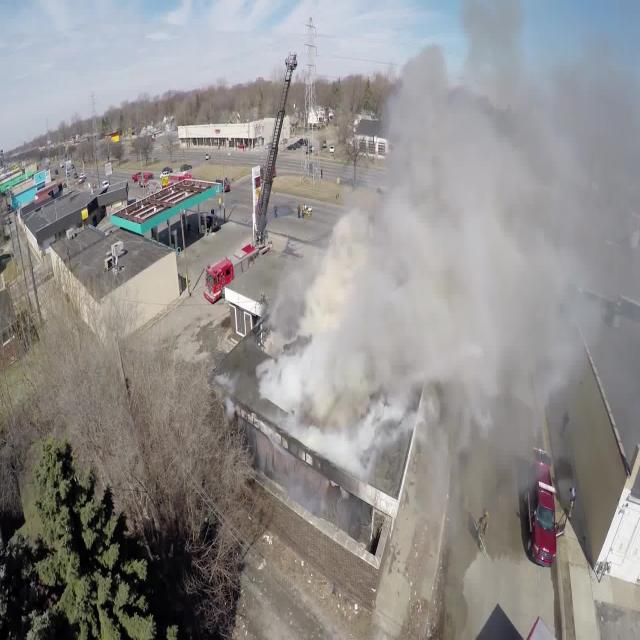Smoke: (266, 71, 630, 449)
